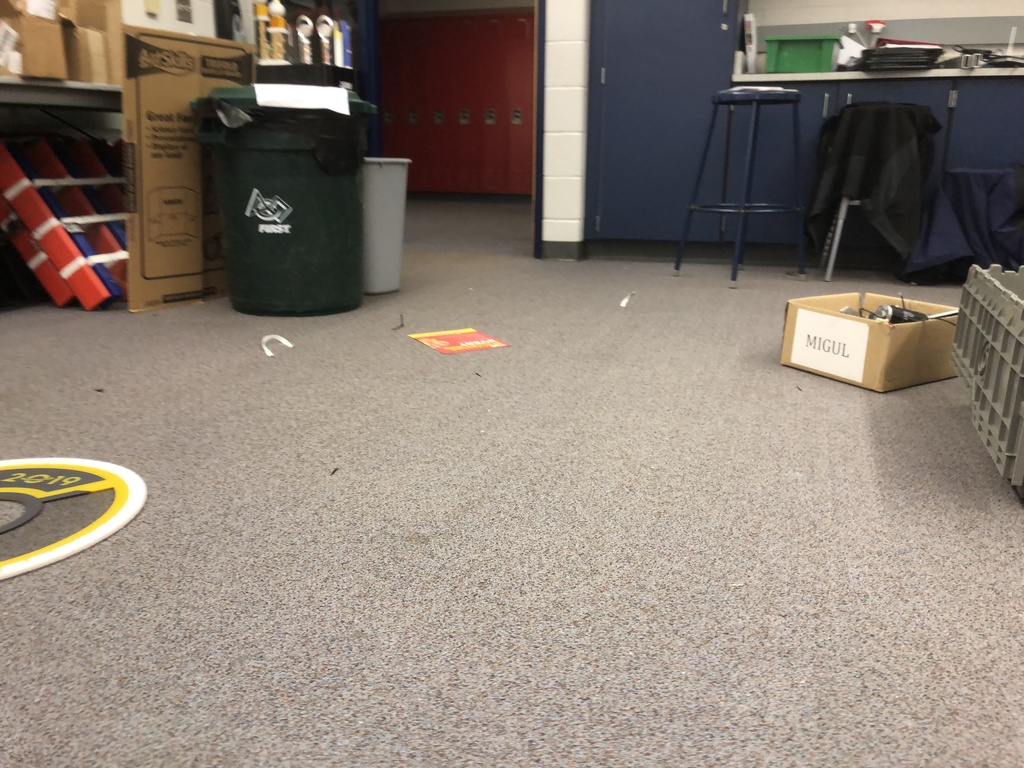hatch_panel: (1, 442, 150, 595)
